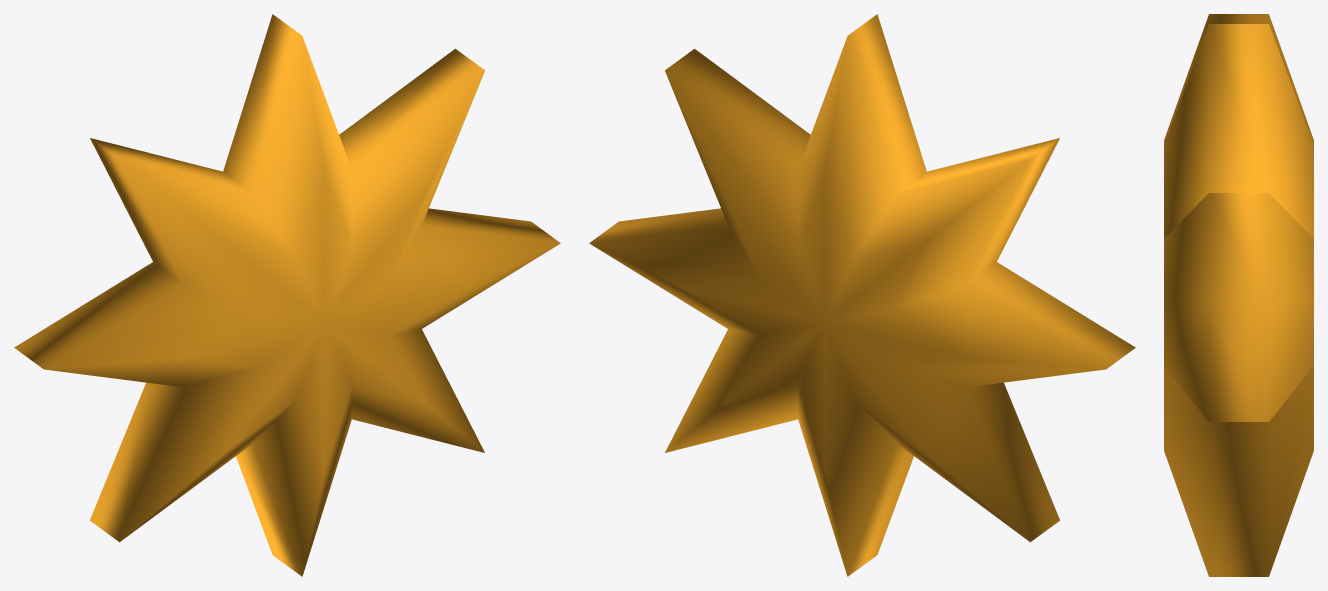
File: 03-STAR-08.fbx
3 views of the same model, side by side, from view 1: azimuth 30°, elevation 25°; view 2: azimuth 150°, elevation 25°; view 3: azimuth 270°, elevation 25° (orthographic).
Visible parts, largest first — view 1: 03-STAR-08; view 2: 03-STAR-08; view 3: 03-STAR-08.
Boxes of the visible parts, left/top/right/bottom form: 03-STAR-08: left=14, top=14, right=560, bottom=576; 03-STAR-08: left=589, top=14, right=1135, bottom=576; 03-STAR-08: left=1164, top=14, right=1313, bottom=576.
Bounding box in the file's own units: 400 × 400 × 100.
